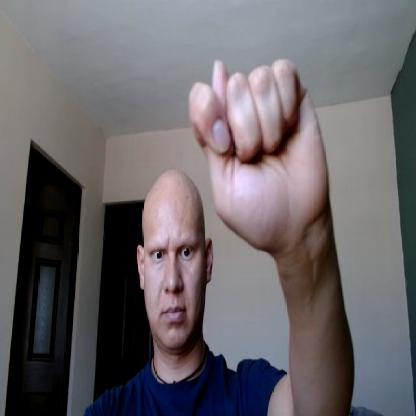T: (187, 53, 326, 246)
